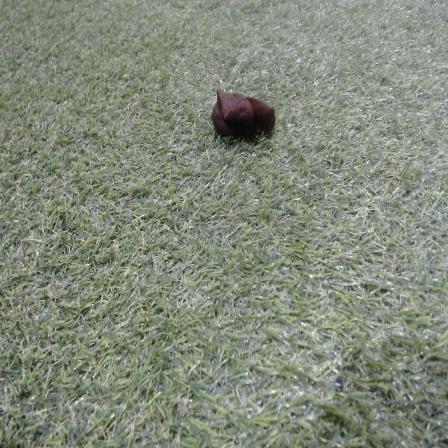dog-poop: (212, 86, 272, 136)
